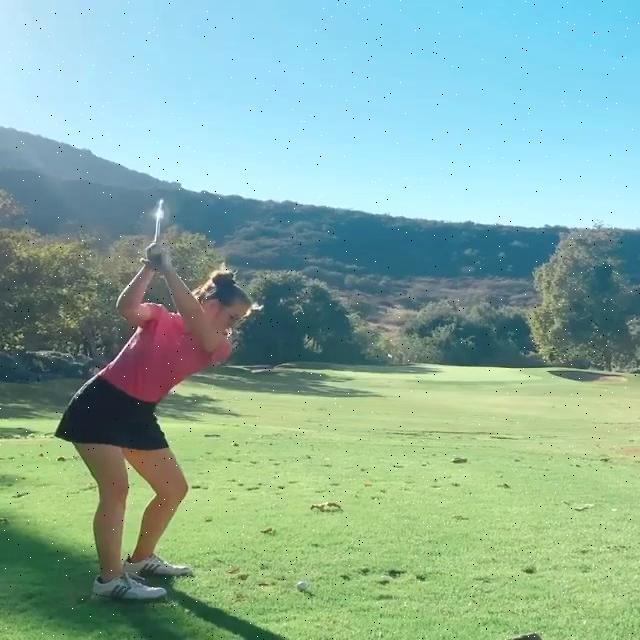ClubHandle: (144, 196, 178, 258)
GolfBall: (296, 576, 311, 592)
